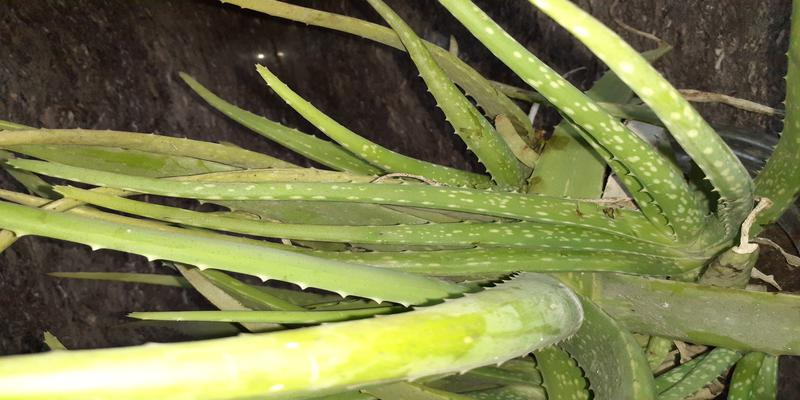Aloevera: (56, 132, 766, 384)
